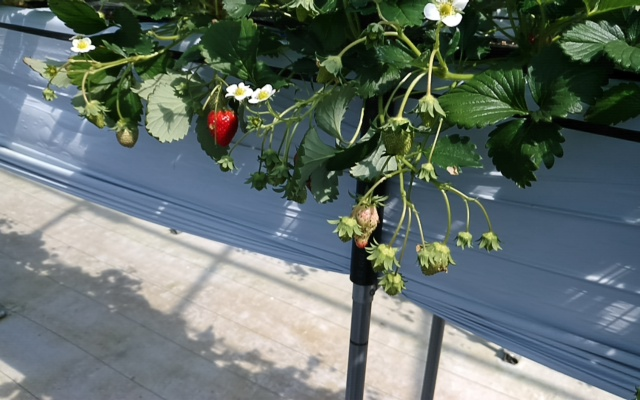GreenStrawberry: (349, 202, 381, 251), (379, 120, 413, 160), (412, 246, 455, 277), (116, 119, 140, 150)
MatureStrawberry: (206, 109, 239, 152)
